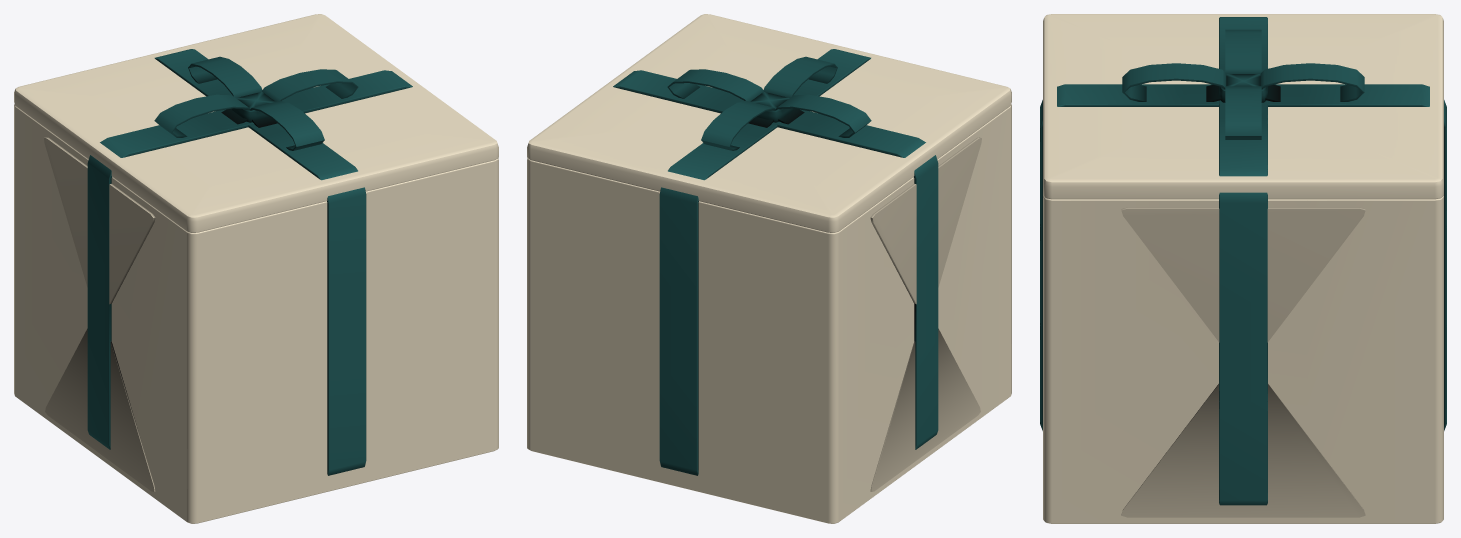
File: gift_box.glb
3 renders of one model, left to right at view 1: azimuth 30°, elevation 25°; view 2: azimuth 150°, elevation 25°; view 3: azimuth 270°, elevation 25°, orthographic. The views are drawn at different scales.
Parts seen in each view (by area): view 1: GiftBox_Wrap, GiftBox_Lid, GiftBox_Ribbon, GiftBox_Bow; view 2: GiftBox_Wrap, GiftBox_Lid, GiftBox_Ribbon, GiftBox_Bow; view 3: GiftBox_Wrap, GiftBox_Lid, GiftBox_Ribbon, GiftBox_Bow.
Part boxes in pixels (x1,y1,x2,y2): GiftBox_Wrap: (14,104,498,523); GiftBox_Lid: (14,14,498,232); GiftBox_Ribbon: (87,49,412,475); GiftBox_Bow: (154,56,358,150); GiftBox_Wrap: (527,104,1011,523); GiftBox_Lid: (527,14,1011,232); GiftBox_Ribbon: (613,49,938,475); GiftBox_Bow: (667,56,871,150); GiftBox_Wrap: (1043,195,1443,523); GiftBox_Lid: (1043,14,1443,199); GiftBox_Ribbon: (1040,17,1446,505); GiftBox_Bow: (1122,29,1364,139).
Size of the model in its own units: 0.2006 by 0.2 by 0.2.
